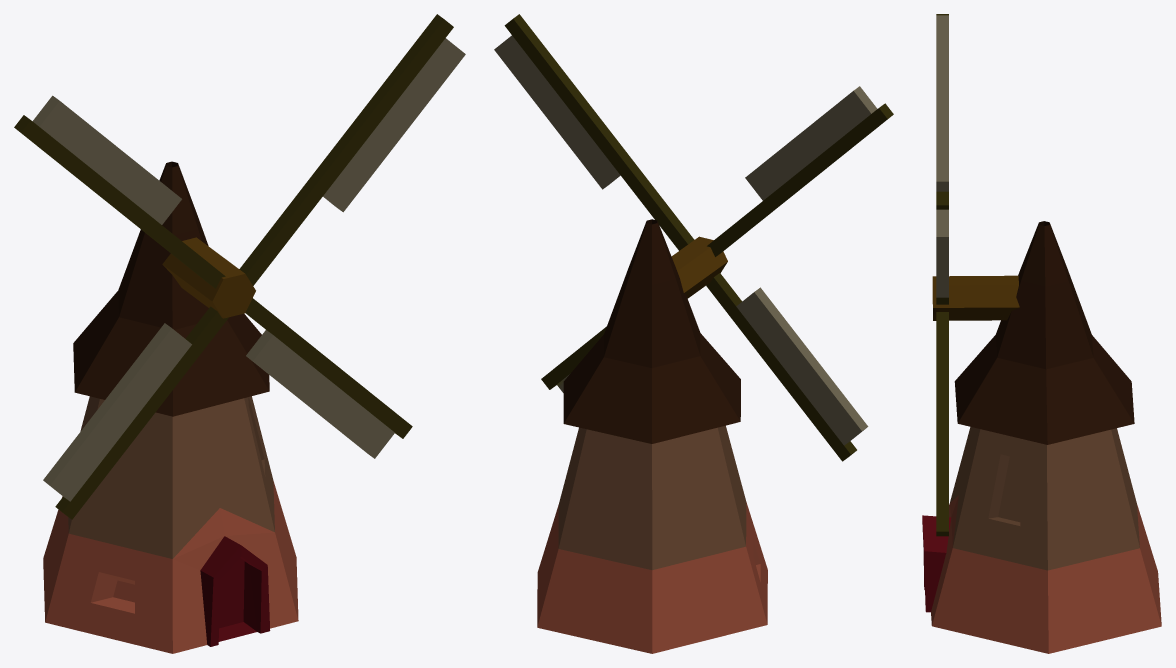
The model's file is Mill_LowPoly.fbx.
The picture shows the model from 3 angles, left to right: view 1: azimuth 30°, elevation 25°; view 2: azimuth 150°, elevation 25°; view 3: azimuth 270°, elevation 25°; orthographic projection. The views are drawn at different scales.
Parts seen in each view (by area): view 1: Moinho; view 2: Moinho; view 3: Moinho.
Boxes of the visible parts, x1,y1,x2,y2 form: Moinho: (14, 14, 465, 653); Moinho: (494, 14, 893, 653); Moinho: (922, 14, 1161, 653).
Size of the model in its own units: 341 by 423 by 180.
